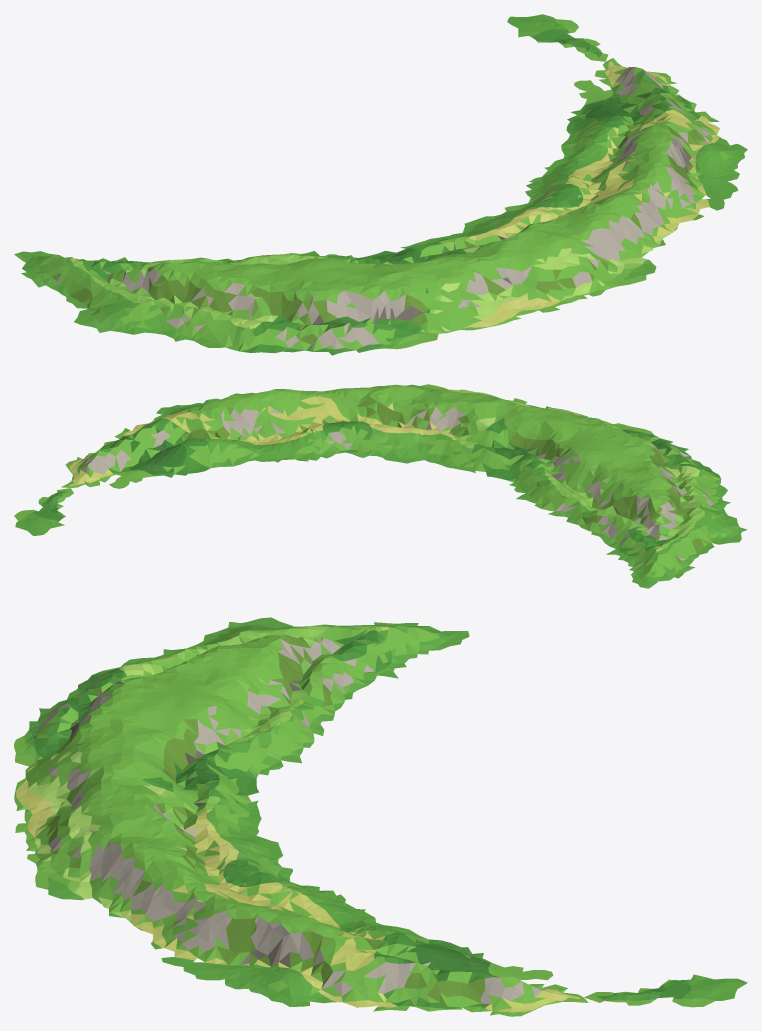
File: Isl-crescent4-Relief.fbx
The picture shows the model from 3 angles, top to bottom: view 1: azimuth 30°, elevation 25°; view 2: azimuth 150°, elevation 25°; view 3: azimuth 270°, elevation 25°; orthographic projection. The views are drawn at different scales.
Parts seen in each view (by area): view 1: Isl-crescent4-Relief-c11, Isl-crescent4-Relief-c21, Isl-crescent4-Relief-c22; view 2: Isl-crescent4-Relief-c11, Isl-crescent4-Relief-c21, Isl-crescent4-Relief-c22; view 3: Isl-crescent4-Relief-c21, Isl-crescent4-Relief-c11, Isl-crescent4-Relief-c22.
Part boxes in pixels (x1,y1,x2,y2): Isl-crescent4-Relief-c11: (14,241,523,355); Isl-crescent4-Relief-c21: (425,66,747,314); Isl-crescent4-Relief-c22: (507,14,625,75); Isl-crescent4-Relief-c11: (453,402,747,588); Isl-crescent4-Relief-c21: (65,384,538,488); Isl-crescent4-Relief-c22: (14,477,99,535); Isl-crescent4-Relief-c21: (15,779,557,1016); Isl-crescent4-Relief-c11: (14,617,469,815); Isl-crescent4-Relief-c22: (552,974,747,1007).
Bounding box in the file's own units: 89.54 × 4.05 × 69.54.
